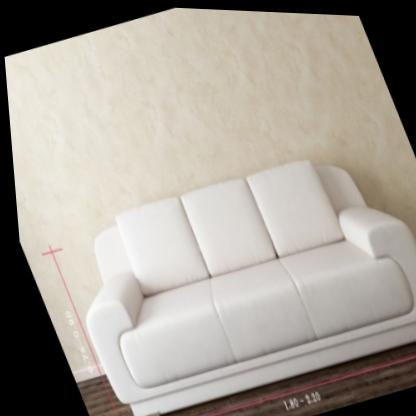Sofa: (48, 128, 416, 416)
